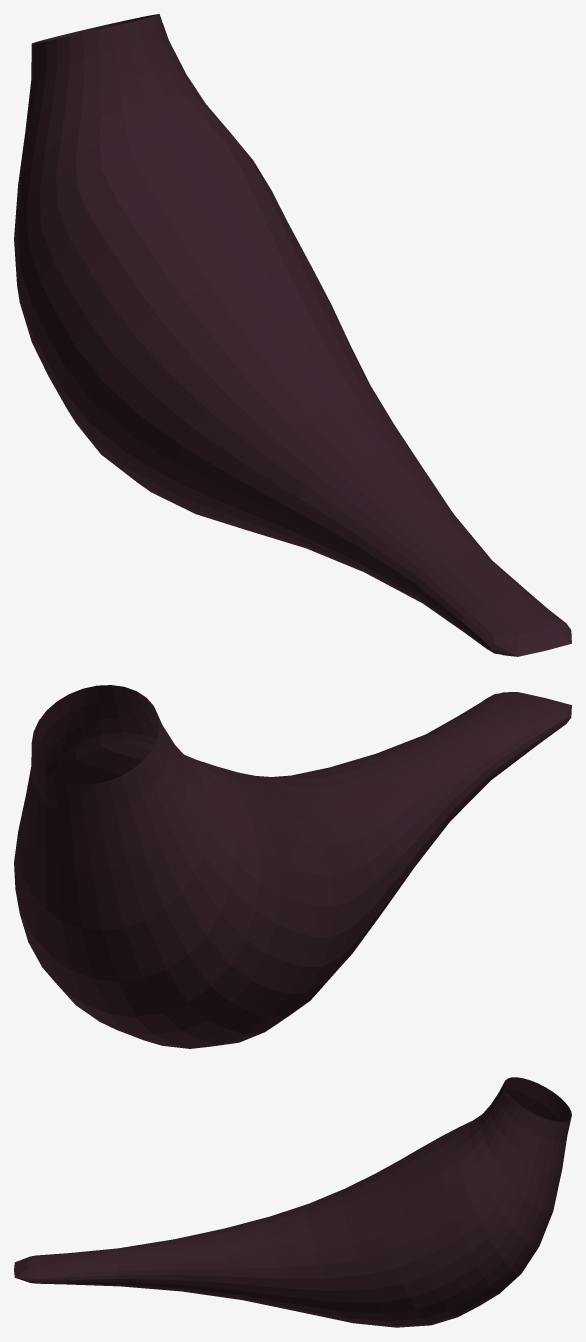
The model's file is eaglebody.fbx.
The picture shows the model from 3 angles, top to bottom: view 1: azimuth 30°, elevation 25°; view 2: azimuth 150°, elevation 25°; view 3: azimuth 270°, elevation 25°; orthographic projection. The views are drawn at different scales.
Visible parts, largest first — view 1: body; view 2: body; view 3: body.
Part boxes in pixels (x1,y1,x2,y2): body: (14, 14, 571, 656); body: (14, 685, 571, 1048); body: (14, 1077, 571, 1327).
Bounding box in the file's own units: 127 × 200 × 428.
